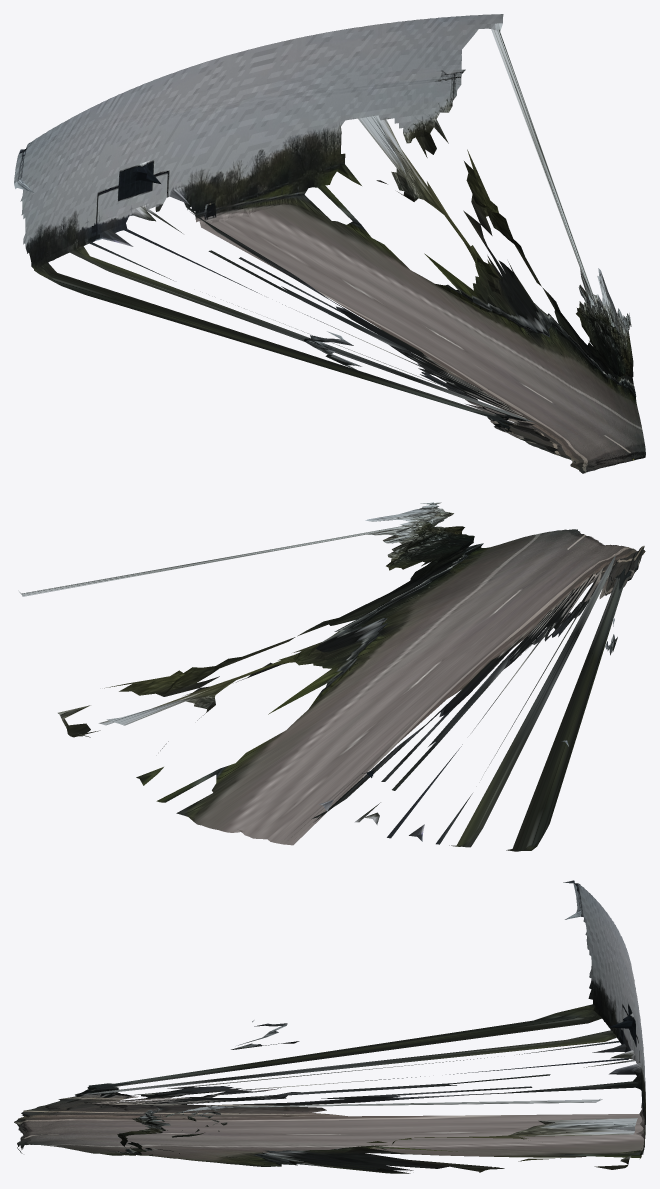
3 renders of one model, top to bottom at view 1: azimuth 30°, elevation 25°; view 2: azimuth 150°, elevation 25°; view 3: azimuth 270°, elevation 25°, orthographic. The views are drawn at different scales.
Visible parts, largest first — view 1: defaultobject; view 2: defaultobject; view 3: defaultobject.
Boxes of the visible parts, <box> form: defaultobject: <box>14,14,645,473</box>; defaultobject: <box>18,502,645,851</box>; defaultobject: <box>14,880,645,1173</box>.
Size of the model in its own units: 36.21 by 11.71 by 44.64.
1 material, 1 textured.
